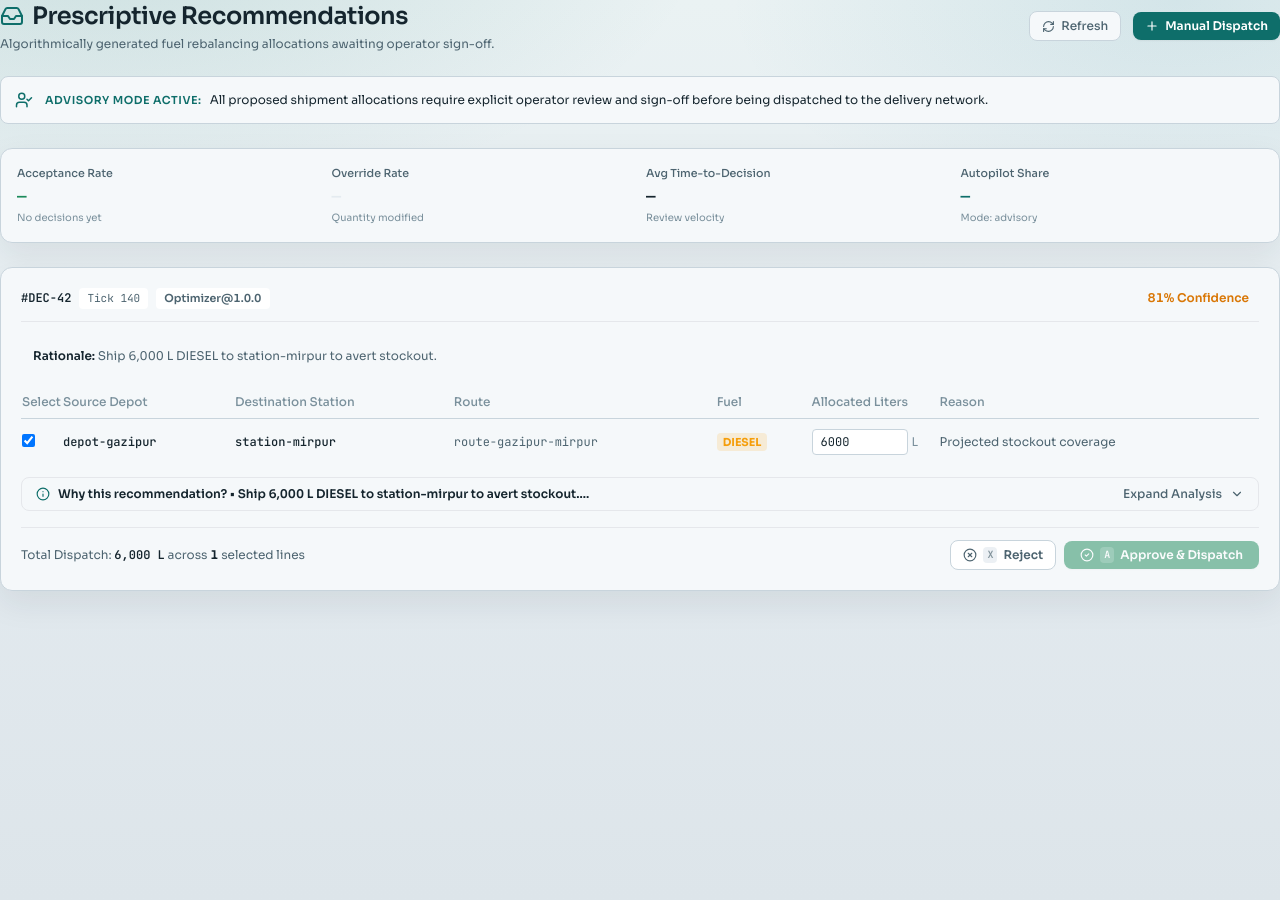
Phase 09 ExplainPanel & F-TRUST Cognitive Forcing › enforces F-TRUST: big recommendation (>5000L) disables Approve until Why is expanded and reviewed is checked
Later steps or results of the test are not shown.
Expected: the element with test id "rec-card-42" is shown, [0, 267, 1279, 591]
Expected: the button with test id "approve-42" is disabled, [1064, 541, 1259, 569]
Note: Expand the Why drawer
Click the button with test id "why-42": coordinates (144, 494) [22, 478, 1258, 510]
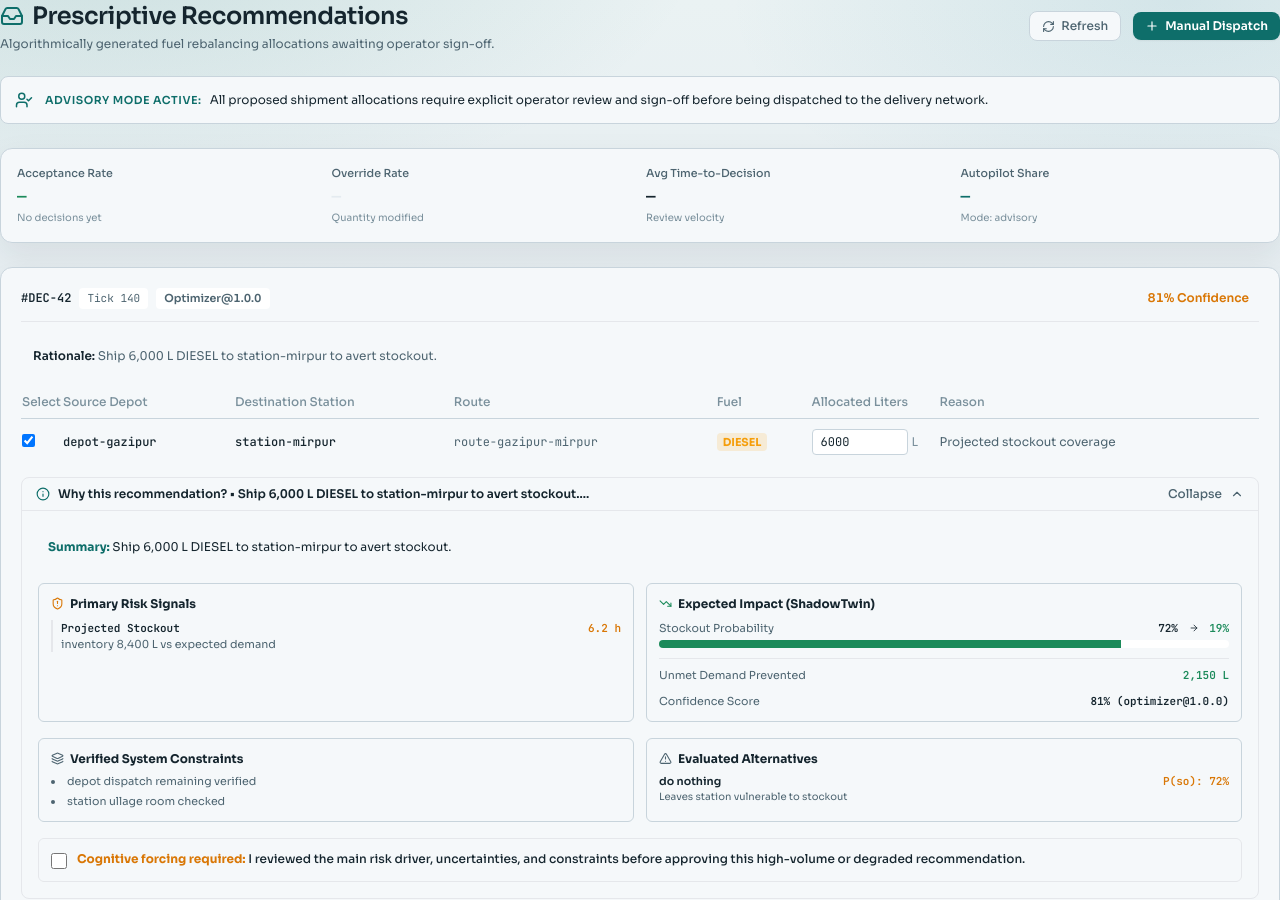
Now the checkbox with test id "reviewed-42" is shown
Now the checkbox with test id "reviewed-42" is not checked
Note: Check the box
Click the checkbox with test id "reviewed-42": coordinates (59, 860) [51, 852, 67, 868]
(page scrolled)
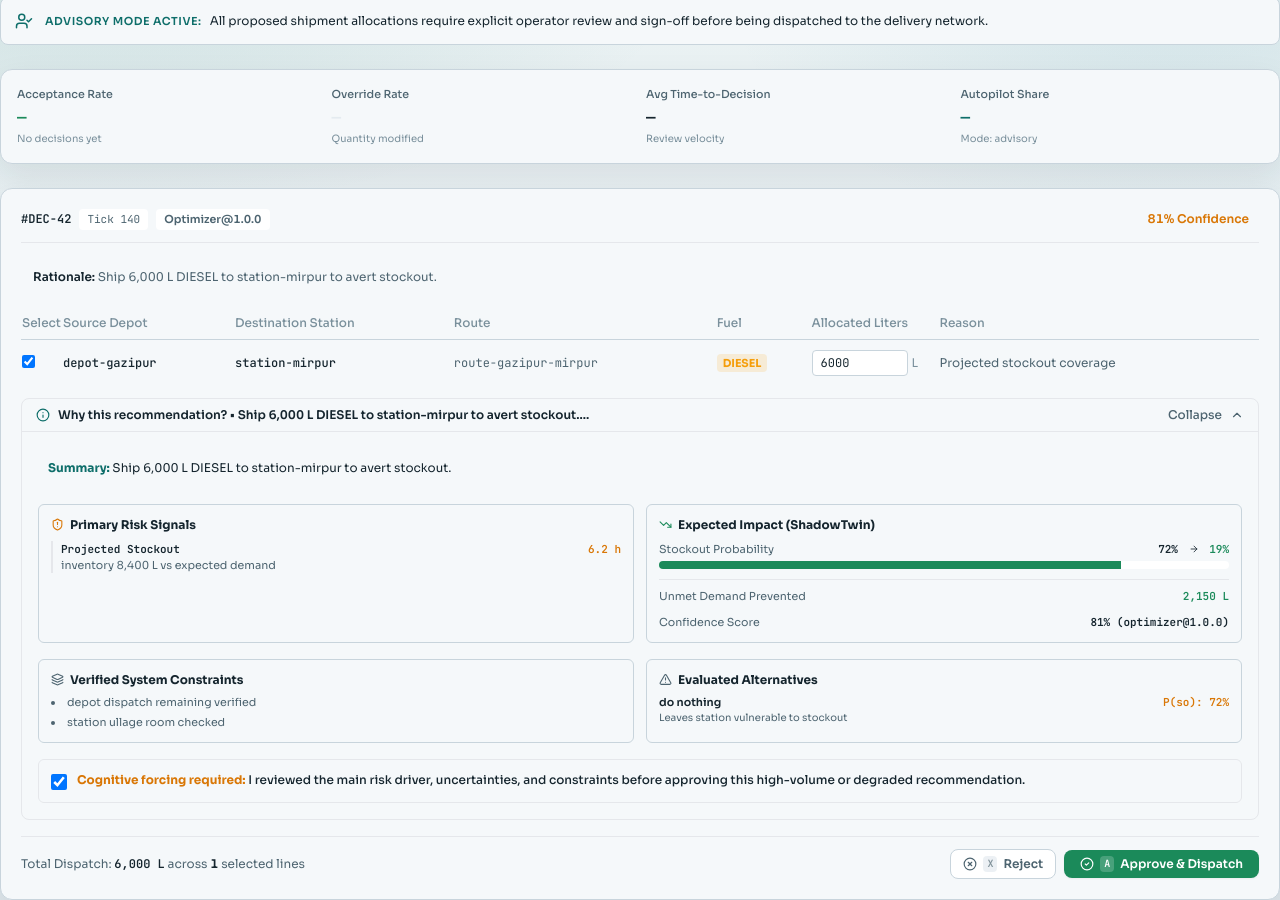
Now the checkbox with test id "reviewed-42" is checked, box [51, 774, 67, 790]
Now the button with test id "approve-42" is enabled, box [1064, 850, 1259, 878]
